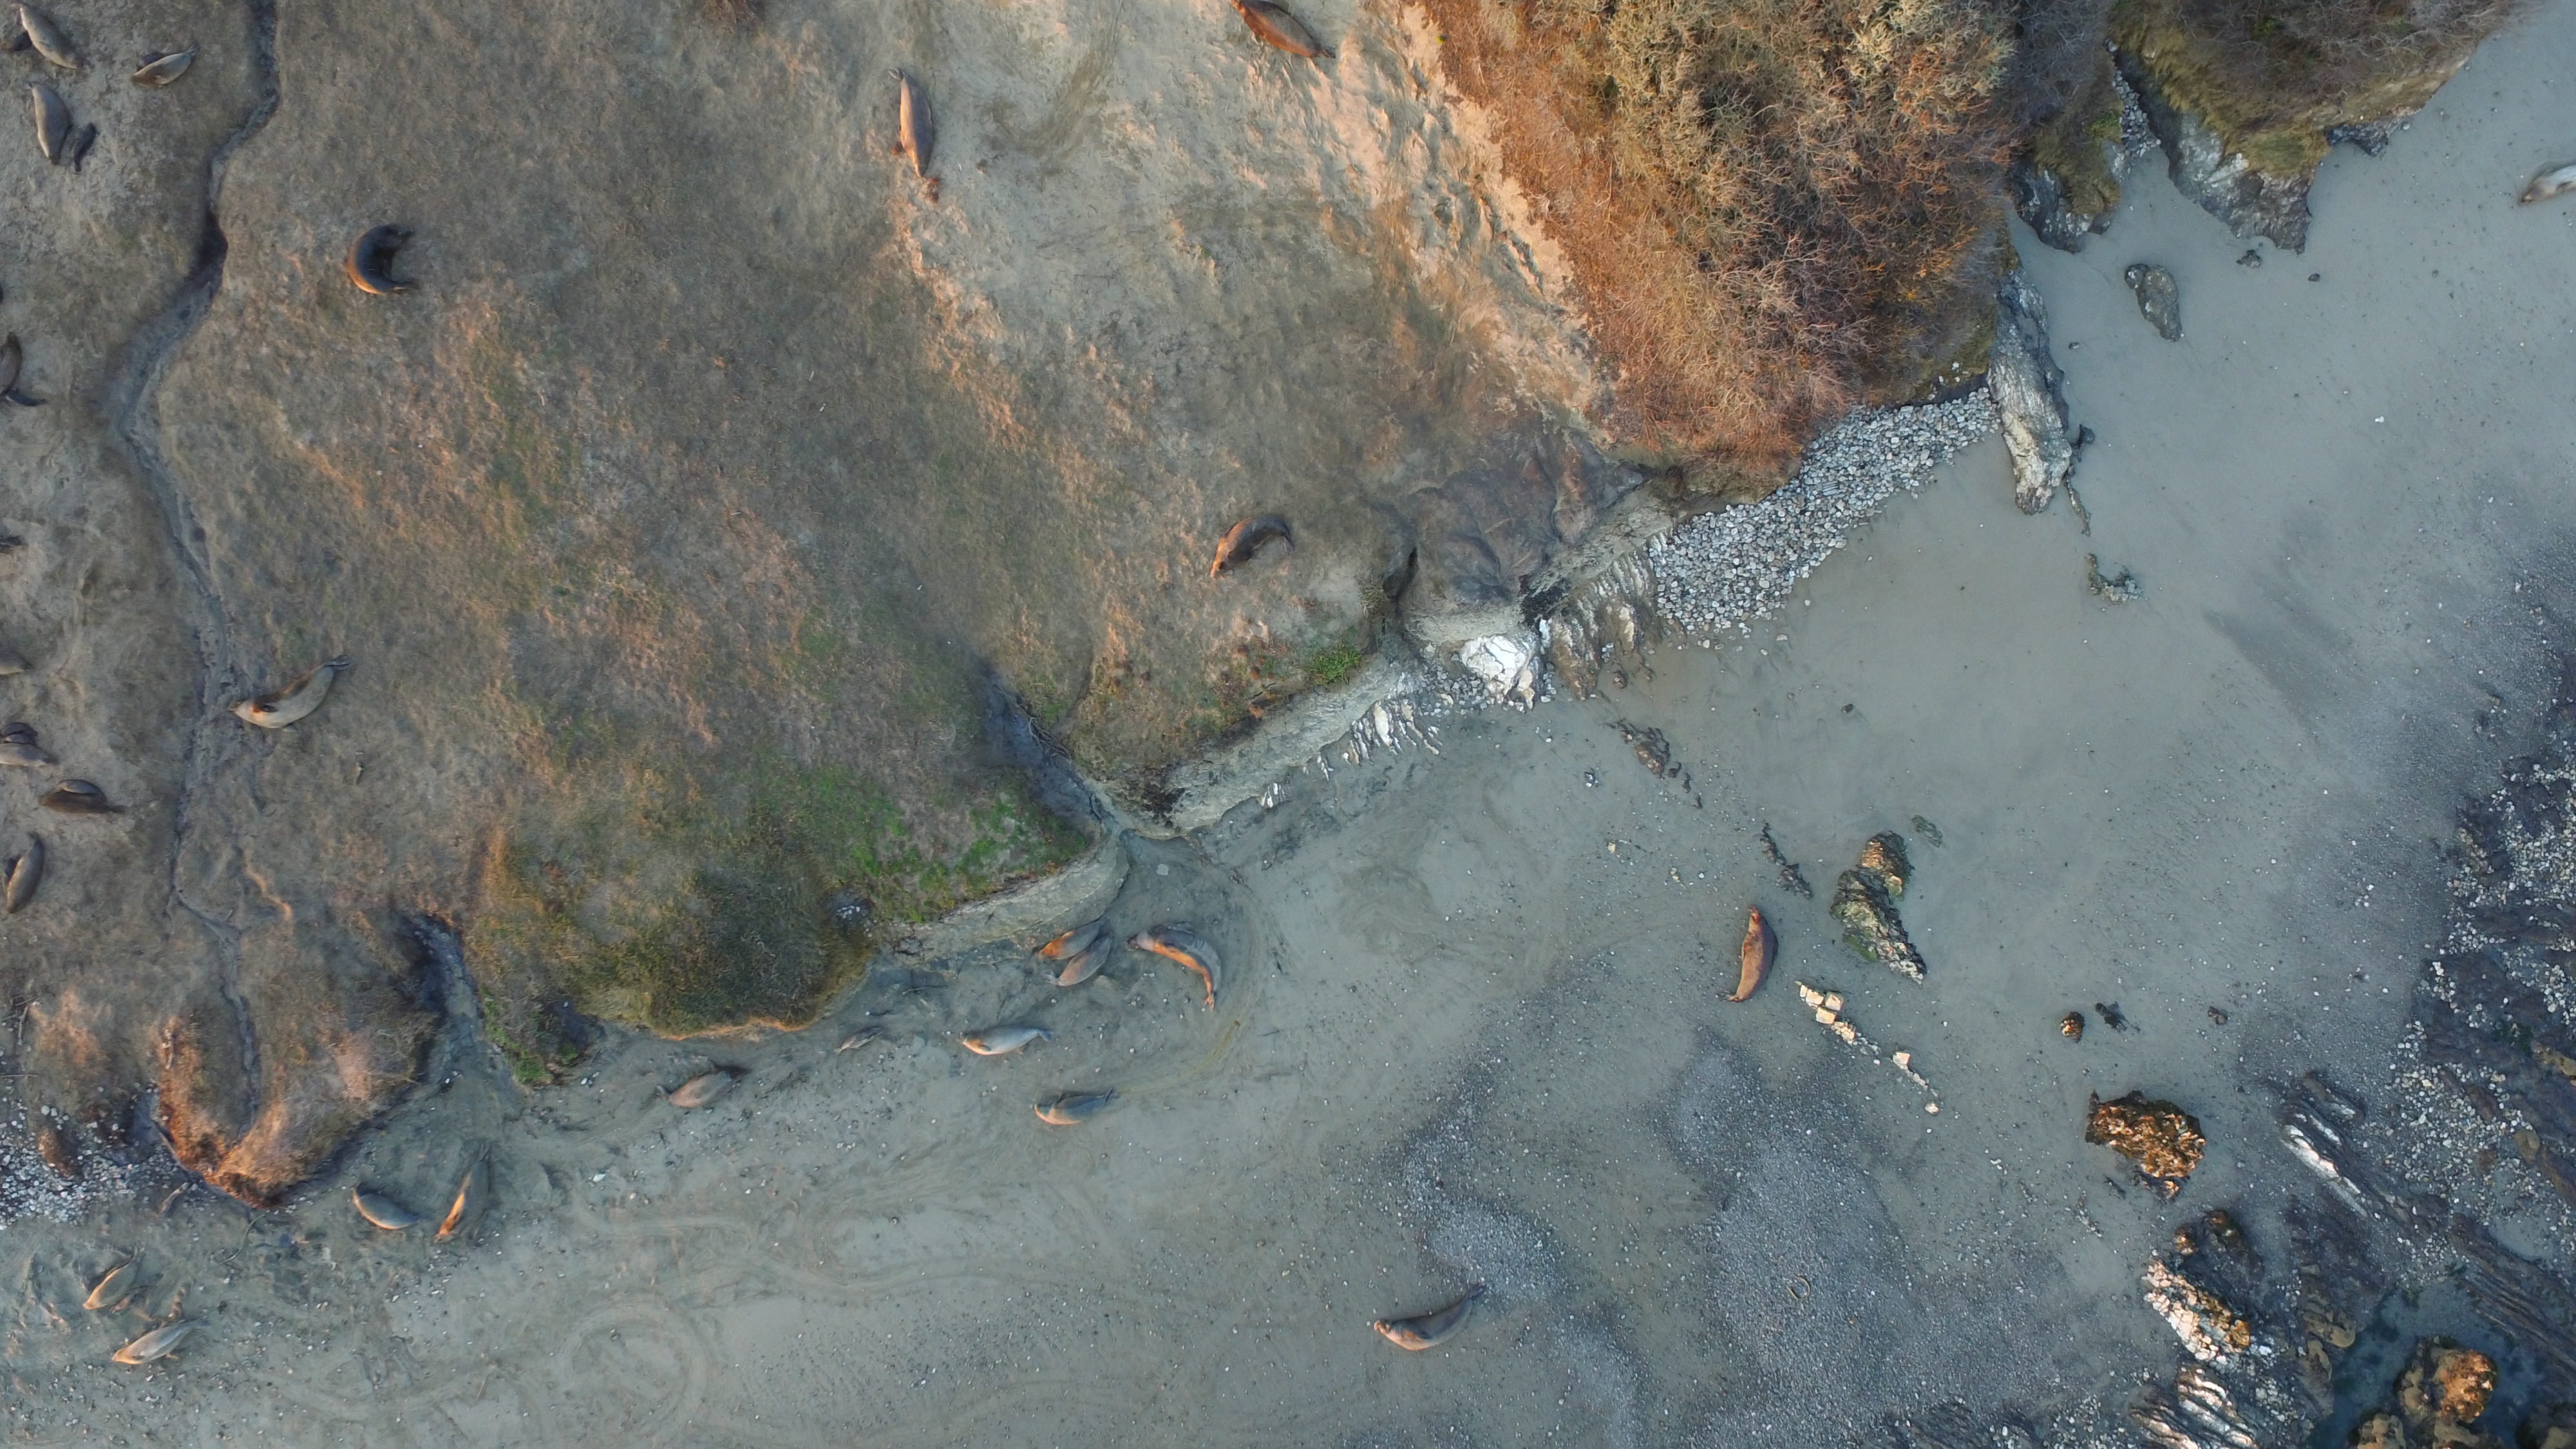adult male: (228, 655, 354, 734), (1125, 924, 1221, 1010), (1373, 1283, 1486, 1352), (433, 1141, 494, 1244), (1716, 906, 1778, 1003), (1210, 513, 1295, 579), (888, 69, 936, 177)
male juvenile / female juvenile / adult female: (349, 225, 419, 299), (111, 1316, 212, 1366), (12, 2, 83, 69), (656, 1060, 750, 1108), (83, 1251, 147, 1311), (1047, 932, 1115, 987), (28, 81, 71, 166), (352, 1182, 421, 1230), (7, 832, 46, 915), (1035, 1088, 1122, 1125), (957, 1024, 1053, 1056), (1037, 920, 1104, 964), (133, 44, 200, 87), (41, 791, 127, 816)
pup: (73, 122, 96, 173), (60, 780, 106, 800), (5, 30, 34, 51), (2, 856, 18, 893), (4, 722, 37, 738), (138, 51, 165, 71), (5, 732, 37, 745)
